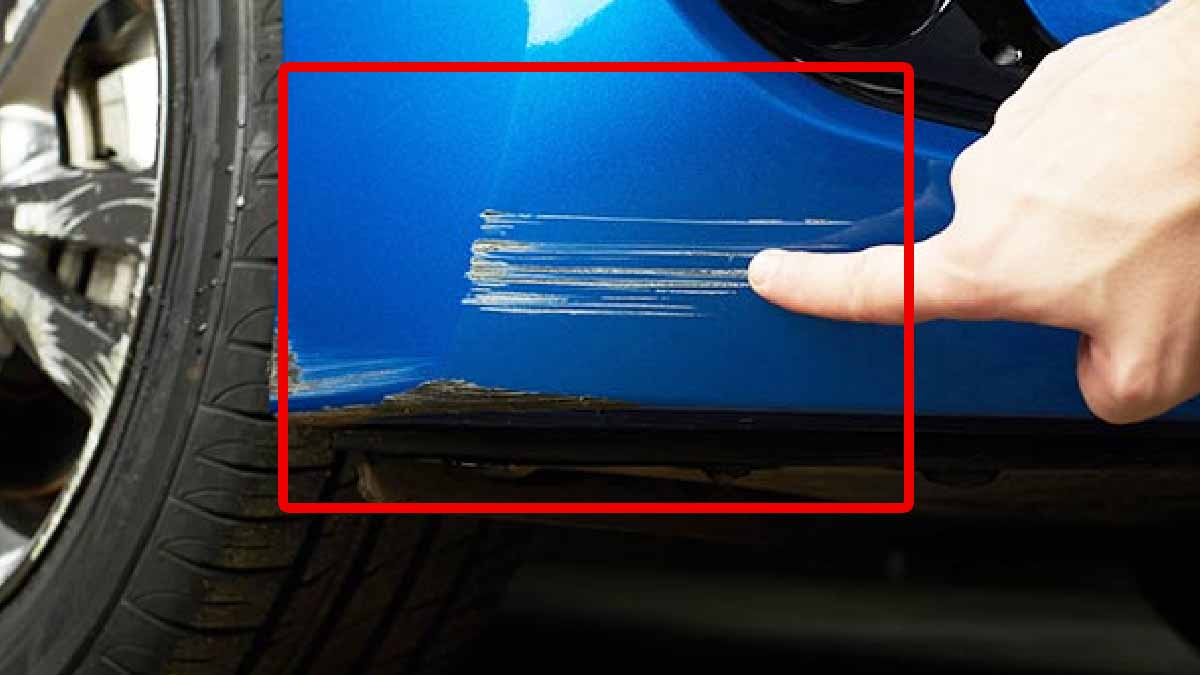scratch: (468, 200, 749, 320), (280, 341, 622, 424)
